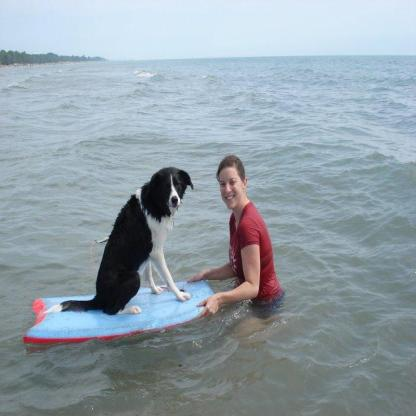Border_collie: (41, 162, 195, 315)
